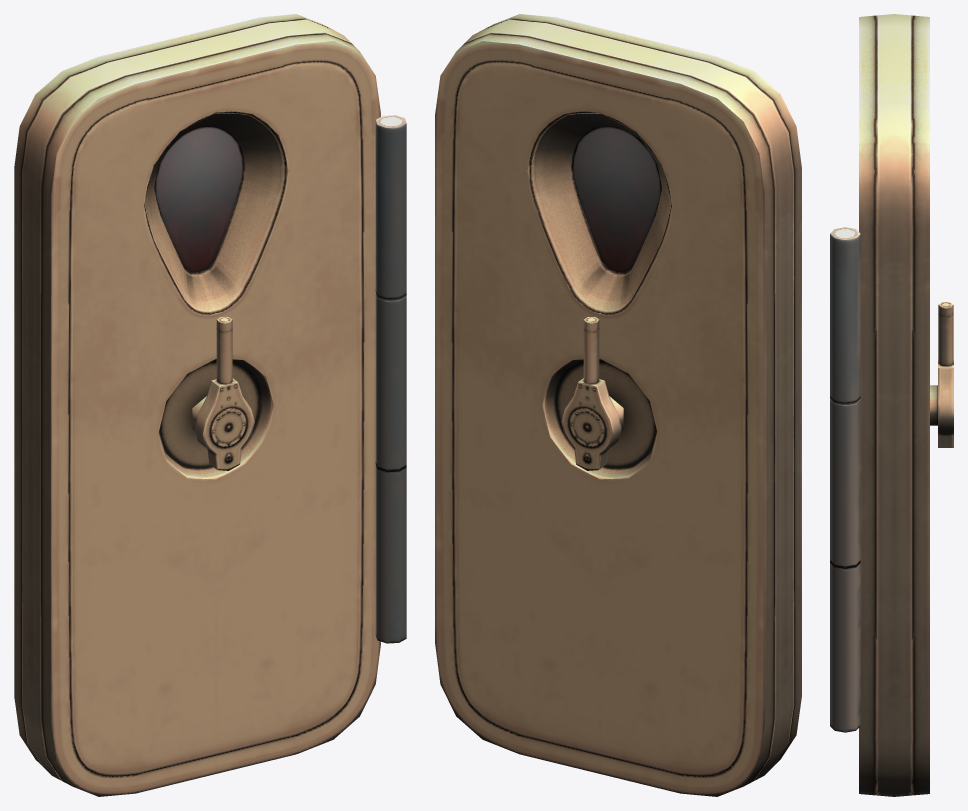
The model's file is doorway_door.dae.
The picture shows the model from 3 angles, left to right: view 1: azimuth 30°, elevation 25°; view 2: azimuth 150°, elevation 25°; view 3: azimuth 270°, elevation 25°; orthographic projection. The views are drawn at different scales.
Visible parts, largest first — view 1: Doorway_Door; view 2: Doorway_Door; view 3: Doorway_Door.
Boxes of the visible parts, box(x1,y1,x2,y2) form: Doorway_Door: box(14, 14, 406, 796); Doorway_Door: box(435, 14, 801, 796); Doorway_Door: box(830, 14, 953, 796).
Bounding box in the file's own units: 1053 × 338 × 2060.
Materials: 1 (1 with a texture image).
